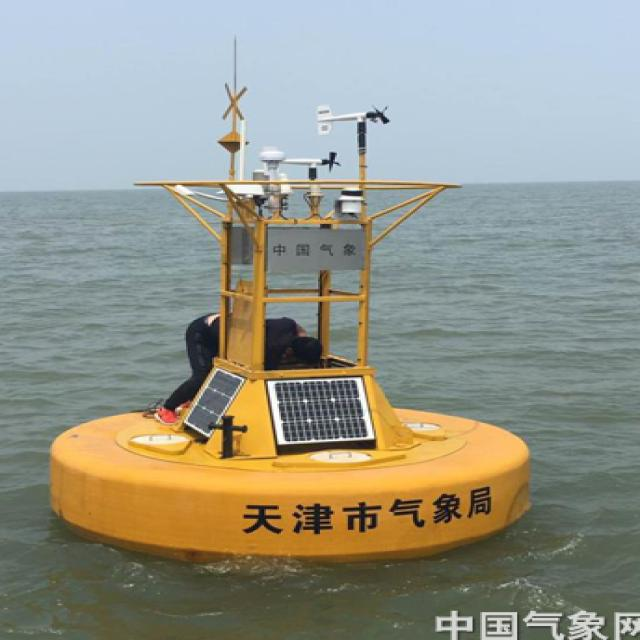buoy: (24, 61, 532, 552)
